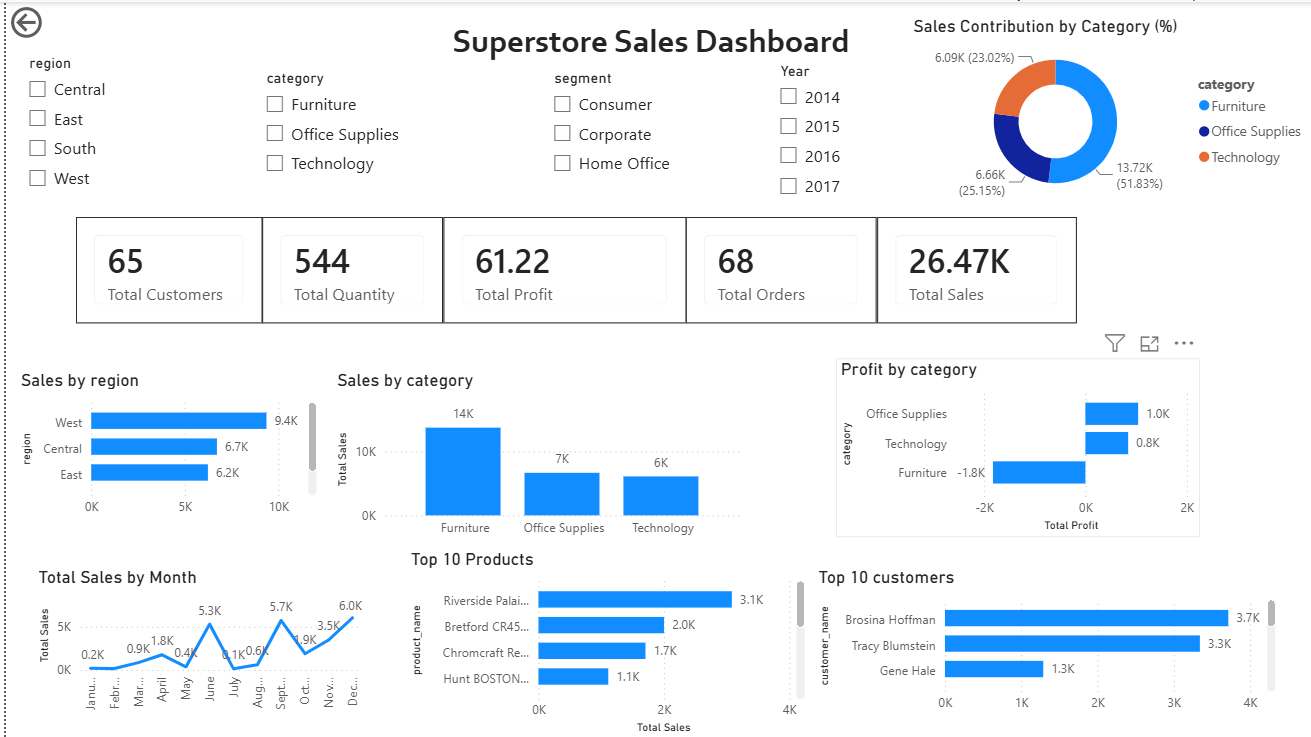

This screenshot's page, from the dashboard's own definition file:
{"tool":"powerbi","page":{"name":"Page 1","canvas":[1280,720],"ordinal":0},"visuals":[{"type":"cardVisual","fields":{"Data":["orders.Total Customers"]},"box":[68.6,209.9,182.5,104.3],"z":0},{"type":"cardVisual","fields":{"Data":["orders.Total Orders"]},"box":[665.5,209.9,186.6,104.3],"z":1000},{"type":"cardVisual","fields":{"Data":["orders.Total Profit"]},"box":[428.1,209.9,237.4,104.3],"z":2000},{"type":"cardVisual","fields":{"Data":["orders.Total Quantity"]},"box":[251.1,209.9,177,104.3],"z":3000},{"type":"cardVisual","fields":{"Data":["orders.Total Sales"]},"box":[852.1,209.9,194.9,104.3],"z":4000},{"type":"clusteredBarChart","title":"Sales by region","fields":{"Y":["orders.Total Sales"],"Category":["orders.region"]},"box":[9.6,359.5,299.1,152.3],"z":5000},{"type":"clusteredColumnChart","title":"Sales by category","fields":{"Category":["products.category"],"Y":["orders.Total Sales"]},"box":[319.7,359.5,406.2,172.9],"z":6000},{"type":"clusteredBarChart","title":"Profit by category","fields":{"Y":["orders.Total Profit"],"Category":["products.category"]},"box":[812.4,348.5,355.4,174.3],"z":7000},{"type":"lineChart","fields":{"Y":["orders.Total Sales"],"Category":["orders.order_date.Variation.Date Hierarchy.Month"]},"box":[27.4,553,326.6,150.9],"z":8000},{"type":"clusteredBarChart","title":"Top 10 customers","fields":{"Category":["customers.customer_name"],"Y":["orders.Total Sales"]},"box":[790.4,553,456.9,150.9],"z":9000},{"type":"barChart","title":"Top 10 Products","fields":{"Category":["products.product_name"],"Y":["orders.Total Sales"]},"box":[391.1,533.8,395.2,186.6],"z":10000},{"type":"slicer","fields":{"Values":["orders.region"]},"box":[9.6,46.7,219.6,144.1],"z":11000},{"type":"slicer","fields":{"Values":["products.category"]},"box":[241.5,61.7,281.3,129],"z":12000},{"type":"slicer","fields":{"Values":["customers.segment"]},"box":[522.8,61.7,290.9,129],"z":13000},{"type":"slicer","fields":{"Values":["orders.order_date.Variation.Date Hierarchy.Year"]},"box":[745.1,53.5,274.4,148.2],"z":14000},{"type":"textbox","box":[432.2,13.7,472,48],"z":15000},{"type":"donutChart","title":"Sales Contribution by Category (%)","fields":{"Category":["products.category"],"Y":["orders.Total Sales"]},"box":[882.3,13.7,397.9,188],"z":16000},{"type":"actionButton","box":[0,0,100,40],"z":17000}]}

Visuals, with their boxes in screenshot pixels (x1, y1, x2, y2), scaled from the page's 1280x720 canvas onto the 1311x737 screenshot:
cardVisual - orders.Total Customers: 70, 215, 257, 322
cardVisual - orders.Total Orders: 682, 215, 873, 322
cardVisual - orders.Total Profit: 438, 215, 682, 322
cardVisual - orders.Total Quantity: 257, 215, 438, 322
cardVisual - orders.Total Sales: 873, 215, 1072, 322
"Sales by region" clusteredBarChart: 10, 368, 316, 524
"Sales by category" clusteredColumnChart: 327, 368, 743, 545
"Profit by category" clusteredBarChart: 832, 357, 1196, 535
lineChart - orders.Total Sales x orders.order_date.Variation.Date Hierarchy.Month: 28, 566, 363, 721
"Top 10 customers" clusteredBarChart: 810, 566, 1278, 721
"Top 10 Products" barChart: 401, 546, 805, 736
slicer - orders.region: 10, 48, 235, 195
slicer - products.category: 247, 63, 535, 195
slicer - customers.segment: 535, 63, 833, 195
slicer - orders.order_date.Variation.Date Hierarchy.Year: 763, 55, 1044, 206
textbox: 443, 14, 926, 63
"Sales Contribution by Category (%)" donutChart: 904, 14, 1310, 206
actionButton: 0, 0, 102, 41
